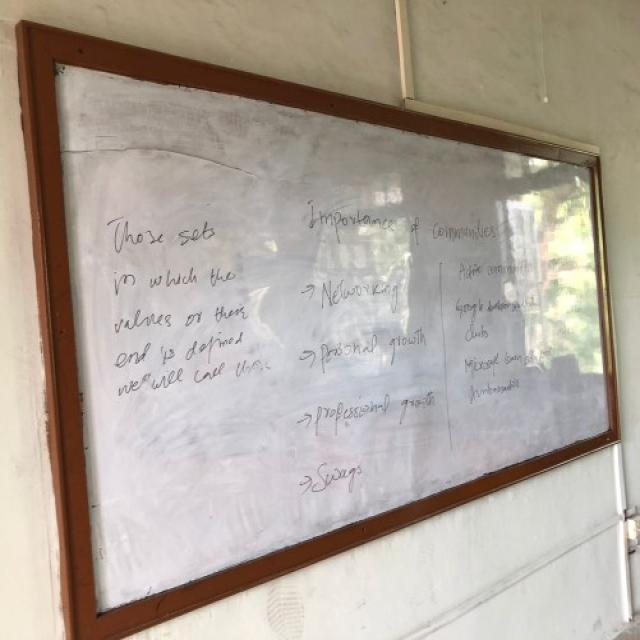White-board: (40, 39, 614, 640)
